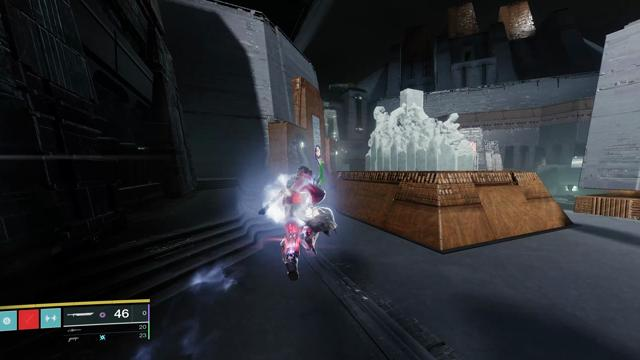give: (470, 143, 475, 151)
worship: (316, 146, 320, 156)
